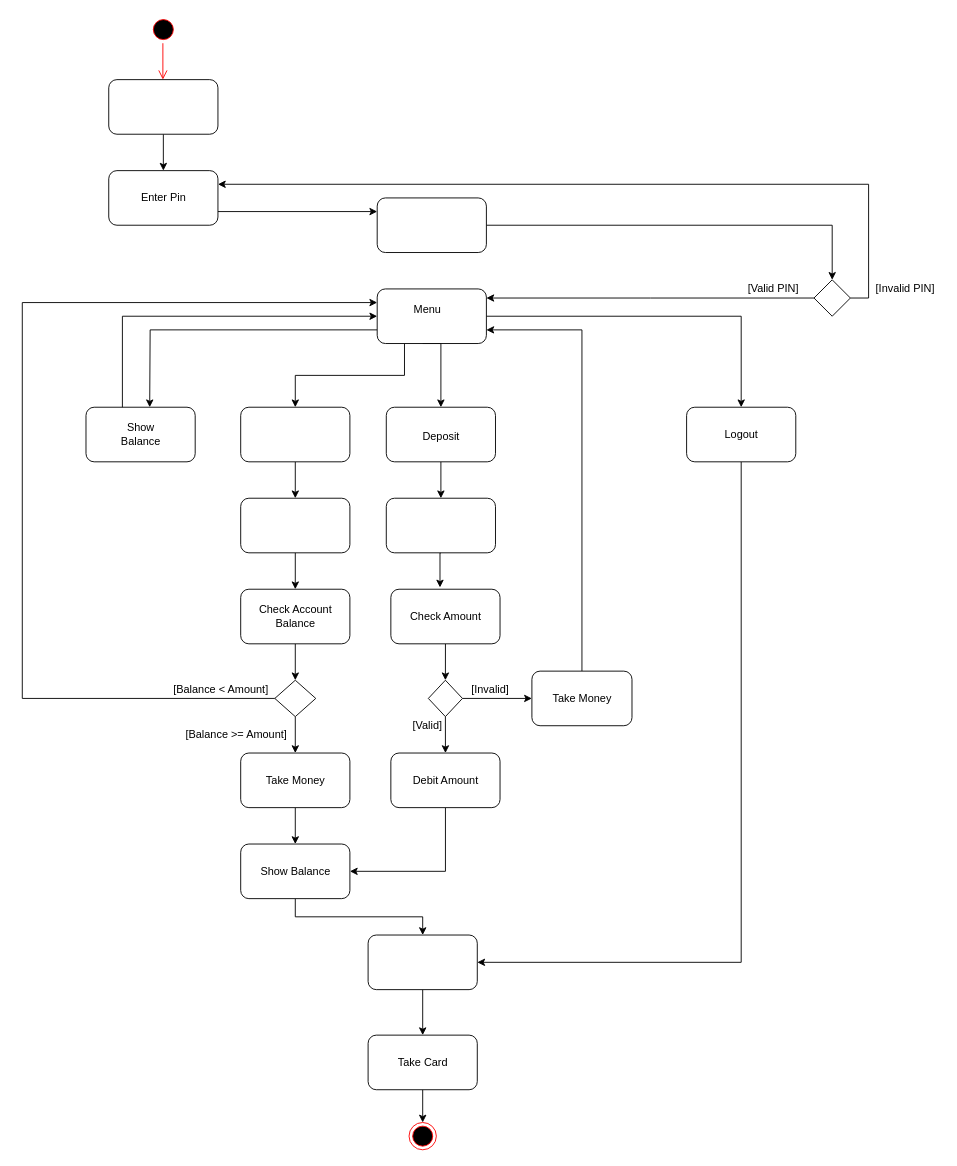
The diagram is 957 pixels wide and 1166 high, and some of its shapes have lost their labels. The shapes that lost their labels are listed below. From the top down, each one's centre as x and y in pixels, then its label:
At point 163,106: "Insert Card".
At point 431,225: "Authorize".
At point 295,434: "Withdrawl".
At point 295,525: "Enter Amount/ Denomination".
At point 440,525: "Insert Money Deposit-Slot".
At point 422,962: "Eject Card".
